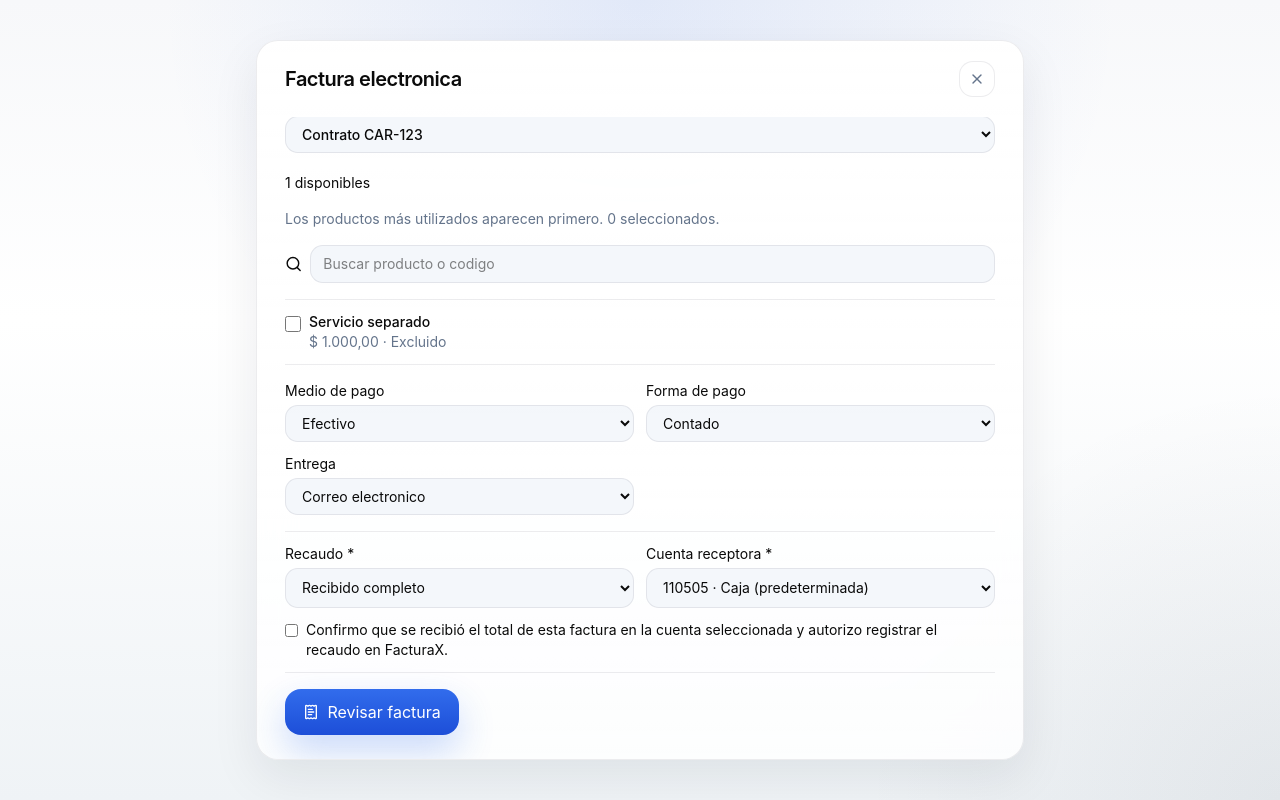
exige confirmación explícita, conserva la cuenta elegida y envía solo la elección
(page scrolled)
Select "Recibido completo" in the dropdown labelled "Recaudo *". click: (460, 588)
box: [285,568,634,608]
Click the checkbox labelled "Servicio separado". click: (293, 324)
box: [285,316,301,332]
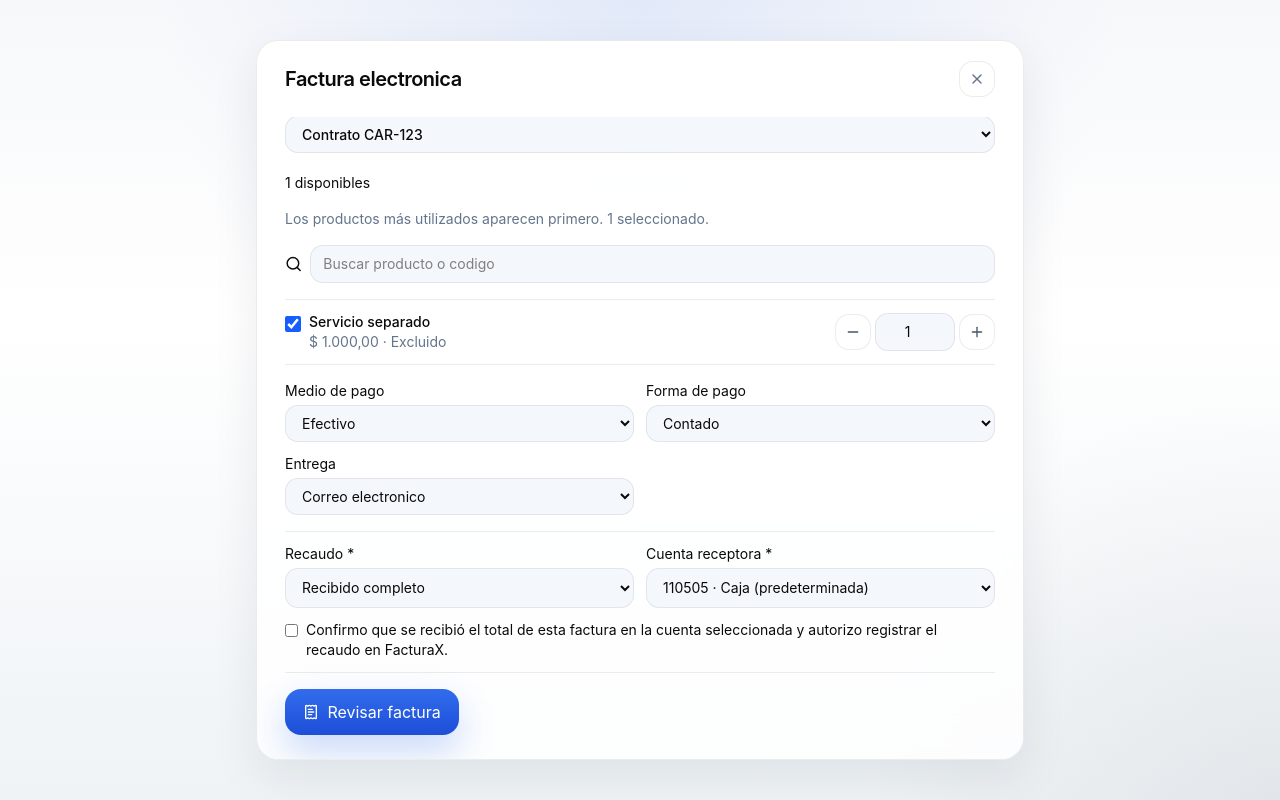
Expected: the button "Revisar factura" is disabled, [285,689,459,735]
Select "111005 · Banco" in the dropdown labelled "Cuenta receptora *". click: (820, 588)
box: [646,568,995,608]
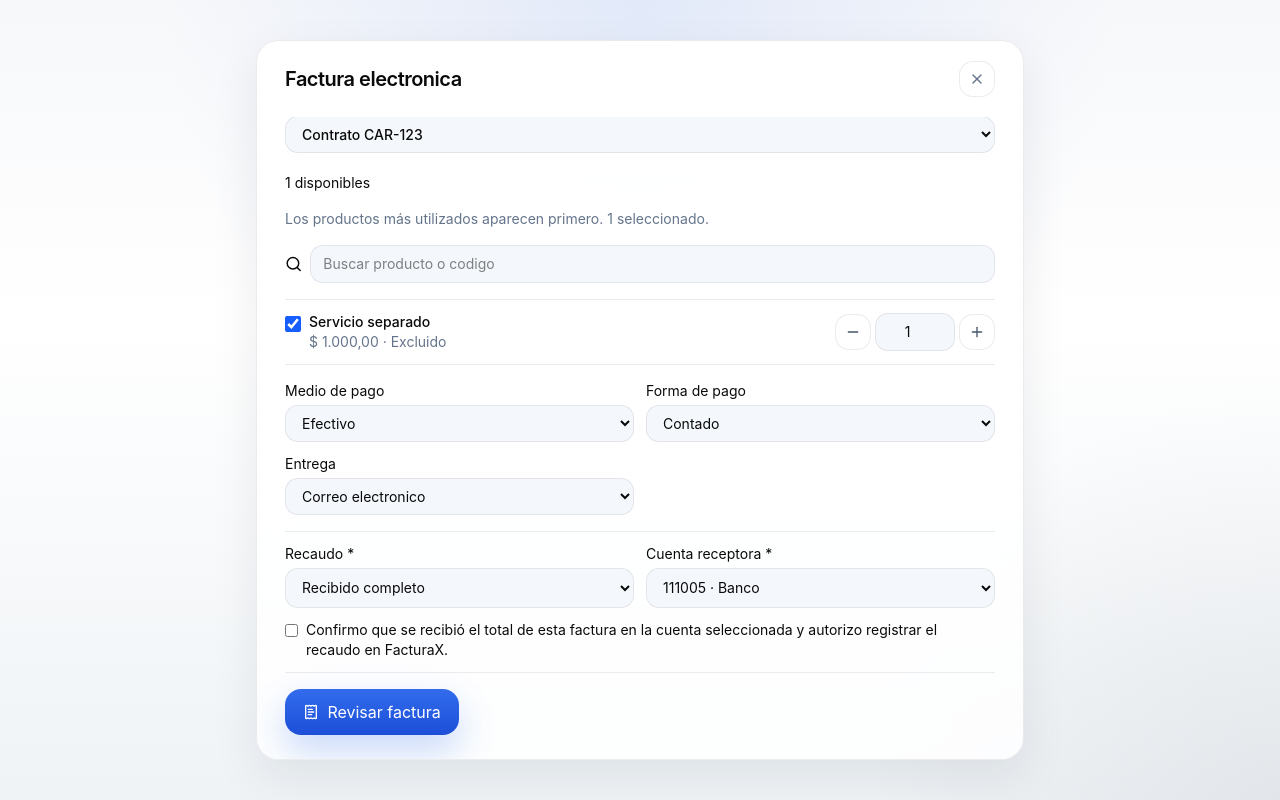
Click the checkbox labelled "Confirmo que se recibió el total". click: (292, 630)
box: [285,624,298,637]
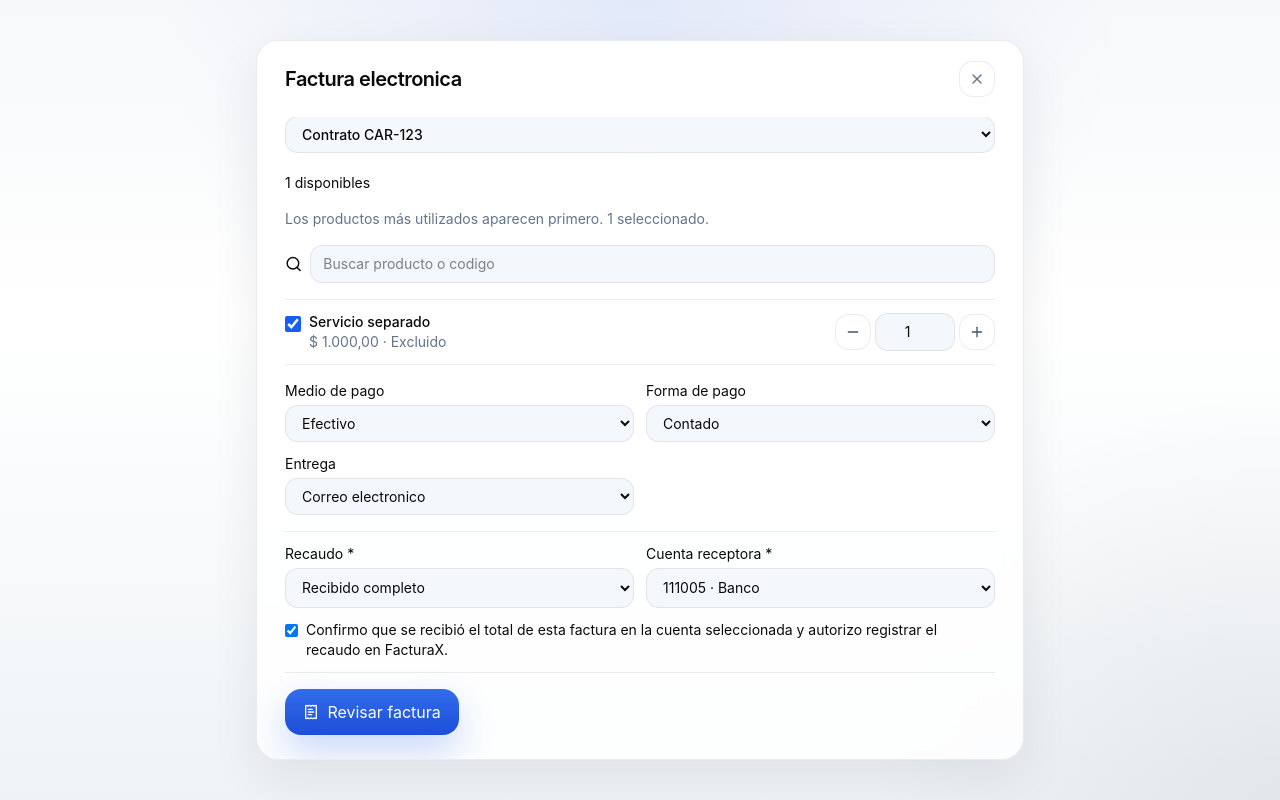
Click the button "Revisar factura". click: (372, 712)
box: [285,689,459,735]
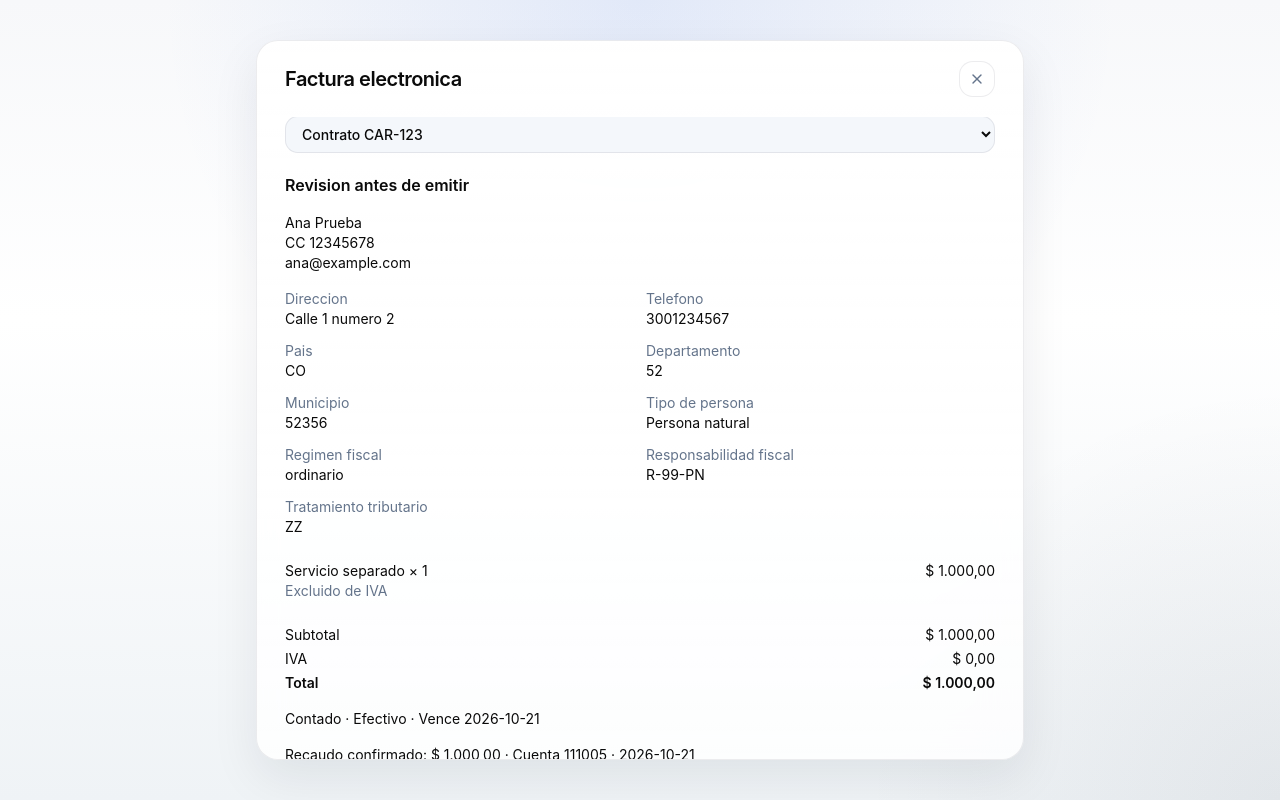
Expected: the text "Recaudo confirmado: $ 1.000,00 · Cuenta 111005 · 2026-10-21" is shown, [285,746,695,759]
